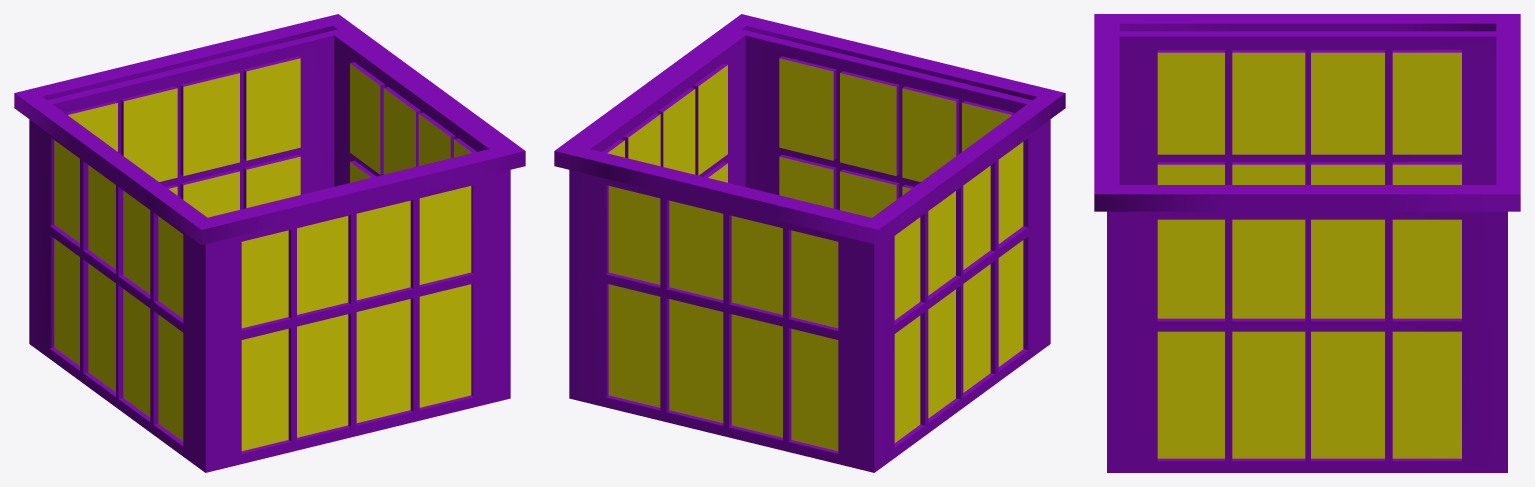
File: Building_Small_Peice_002.fbx
The picture shows the model from 3 angles, left to right: view 1: azimuth 30°, elevation 25°; view 2: azimuth 150°, elevation 25°; view 3: azimuth 270°, elevation 25°; orthographic projection. The views are drawn at different scales.
Parts seen in each view (by area): view 1: Building_Small_Piece_002; view 2: Building_Small_Piece_002; view 3: Building_Small_Piece_002.
Boxes of the visible parts, x1=… form: Building_Small_Piece_002: x1=14, y1=14, x2=525, y2=472; Building_Small_Piece_002: x1=554, y1=14, x2=1065, y2=472; Building_Small_Piece_002: x1=1094, y1=14, x2=1520, y2=472.
Size of the model in its own units: 5440 by 4000 by 5440.
